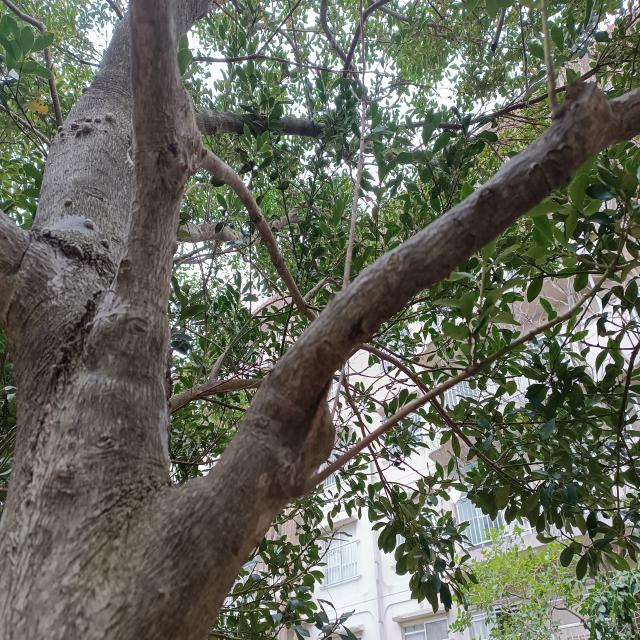Branch: (164, 80, 617, 639), (42, 10, 204, 480)
Twig: (318, 330, 541, 483), (204, 147, 317, 320), (199, 109, 328, 137)
